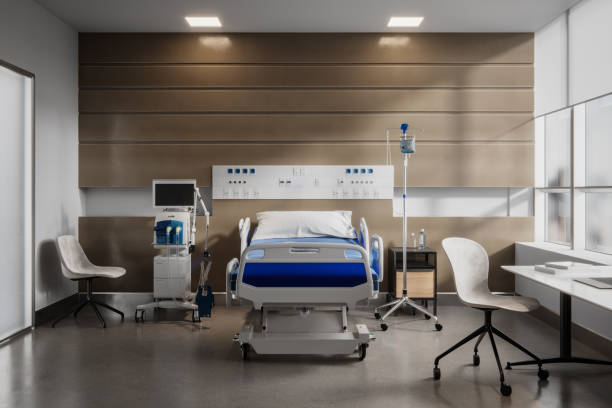bedrail: (225, 218, 252, 305), (358, 216, 383, 280)
bedside_table: (387, 247, 440, 315)
breathing_tube: (165, 223, 214, 302)
chair: (434, 236, 550, 408), (48, 233, 127, 329)
foot_board: (236, 241, 371, 310)
hospital_bed: (226, 209, 385, 360)
iv_pole: (384, 123, 426, 294)
table: (500, 260, 612, 371)
ventilator: (134, 177, 215, 325)
